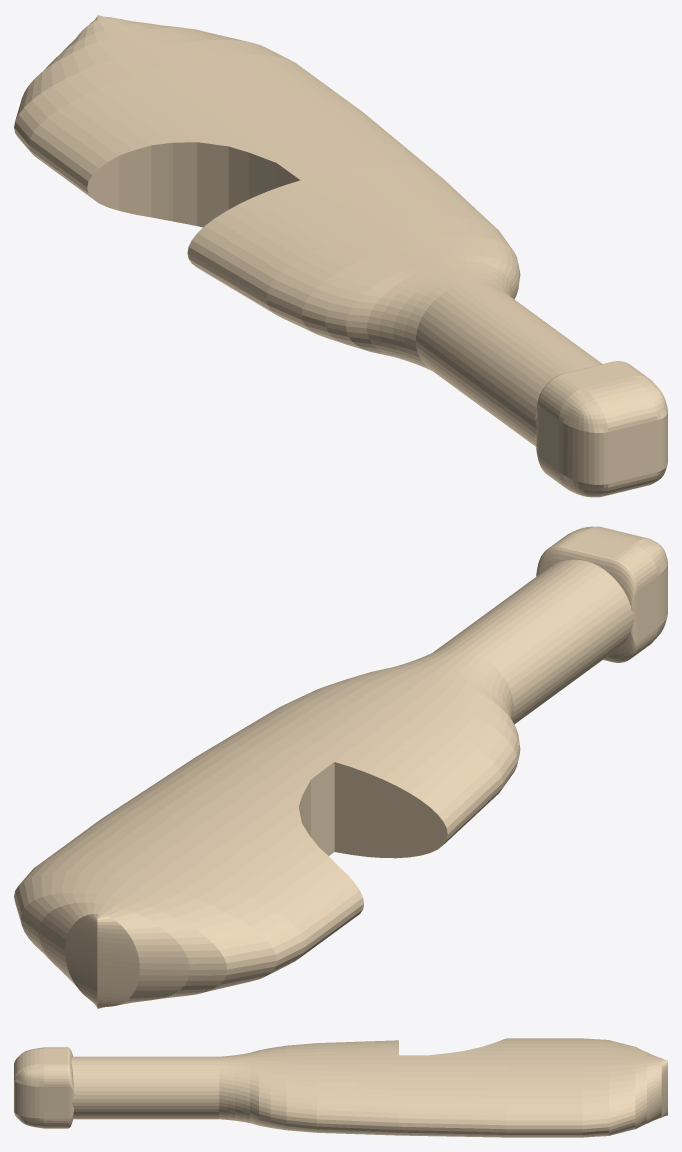
Rendered from Wahaika.fbx.
3 views of the same model, one above another, from view 1: azimuth 30°, elevation 25°; view 2: azimuth 150°, elevation 25°; view 3: azimuth 270°, elevation 25° (orthographic). The views are drawn at different scales.
Visible parts, largest first — view 1: WahaikaWood; view 2: WahaikaWood; view 3: WahaikaWood.
Part boxes in pixels (left/top/right/bottom): WahaikaWood: left=14, top=15, right=667, bottom=497; WahaikaWood: left=14, top=526, right=667, bottom=1008; WahaikaWood: left=14, top=1038, right=667, bottom=1137.
Bounding box in the file's own units: 15.97 × 5.71 × 53.51.
